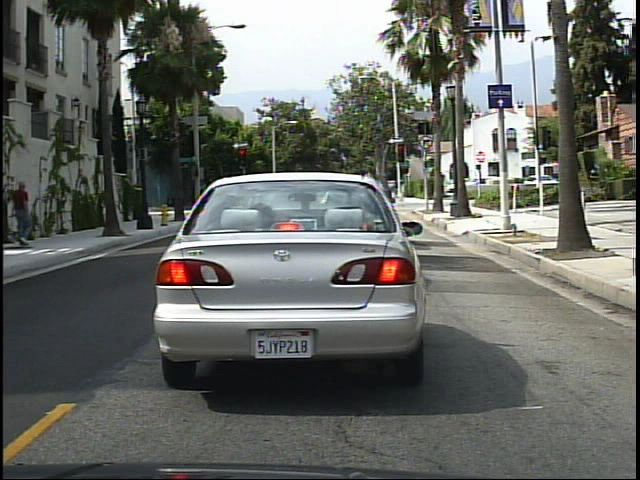car: (140, 170, 456, 409)
